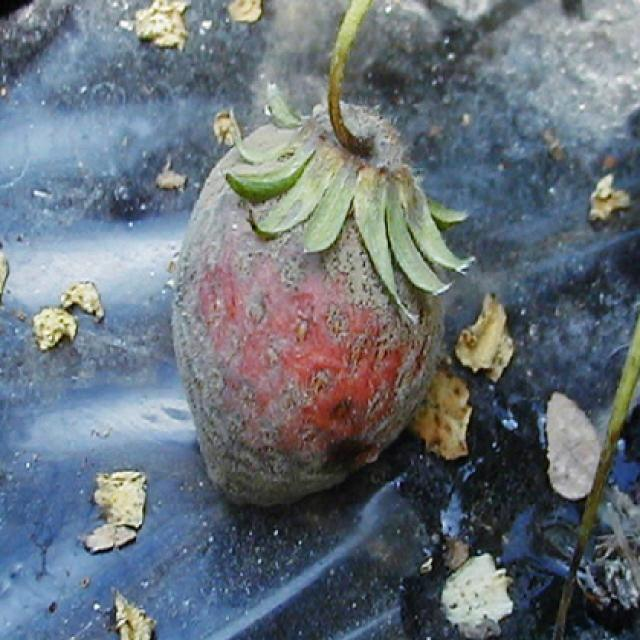Gray Mold: (171, 98, 473, 506)
